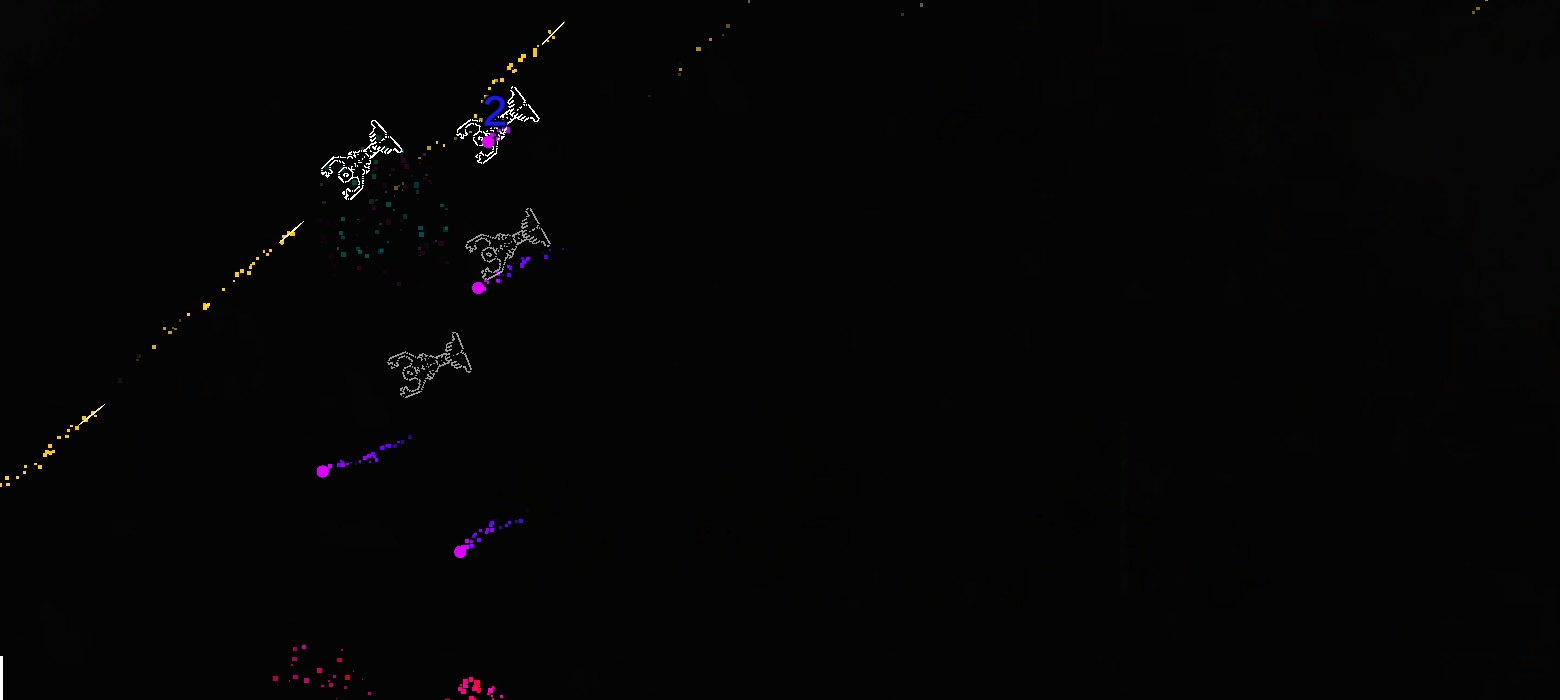enemy: (456, 85, 540, 164), (321, 120, 403, 200), (465, 207, 551, 279), (387, 331, 472, 399)
